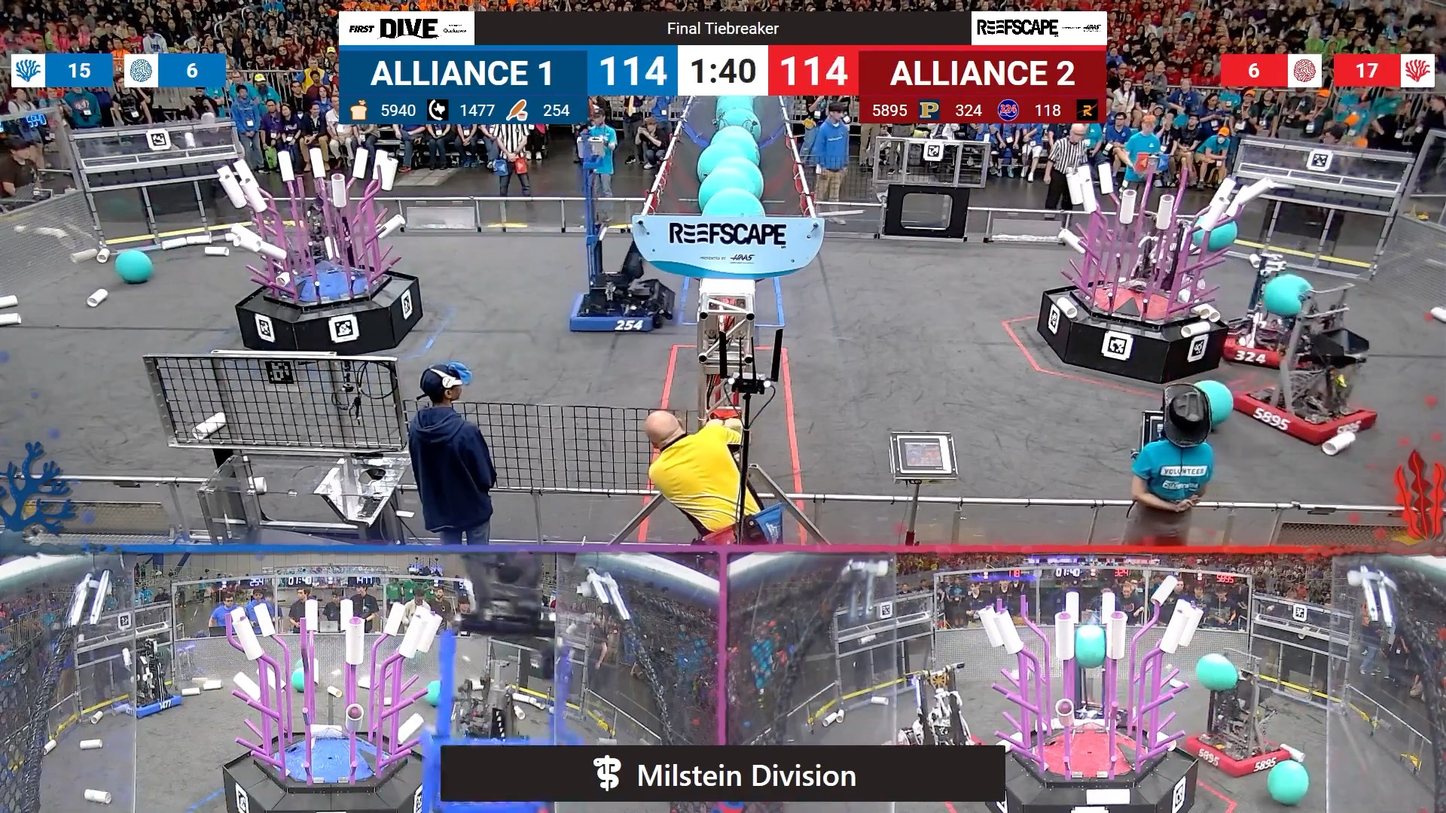bumpers: (1223, 380, 1379, 448), (569, 280, 678, 338), (1214, 325, 1336, 375), (1175, 730, 1292, 779), (109, 692, 189, 724)
